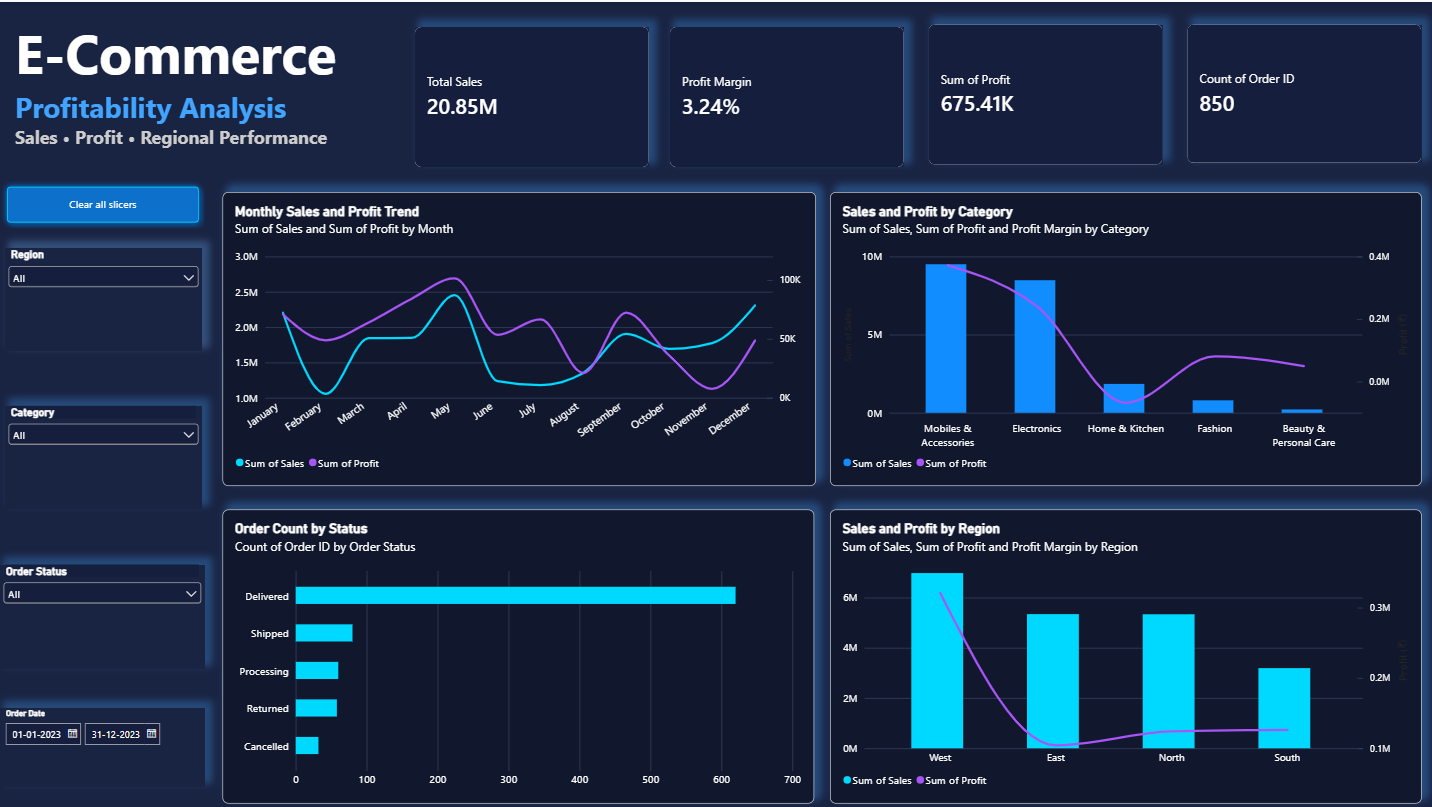

Layout of this report page (visuals, bound fields, positions):
{"tool":"powerbi","page":{"name":"Page 1","canvas":[1920,1080],"ordinal":0},"visuals":[{"type":"cardVisual","fields":{"Data":["ecommerce_sales_cleaned.Total Sales"]},"box":[553.7,32.9,312.9,187.3],"z":0},{"type":"cardVisual","fields":{"Data":["Sum(ecommerce_sales_cleaned.Profit)"]},"box":[1241.2,30.9,312.9,187.3],"z":1000},{"type":"cardVisual","fields":{"Data":["ecommerce_sales_cleaned.Profit Margin"]},"box":[895.4,32.9,312.9,187.3],"z":2000},{"type":"cardVisual","fields":{"Data":["Count(ecommerce_sales_cleaned.Order ID)"]},"box":[1587,30.9,312.9,185.2],"z":3000},{"type":"lineChart","title":"Monthly Sales and Profit Trend","fields":{"Category":["ecommerce_sales_cleaned.Order Date.Variation.Date Hierarchy.Month"],"Y":["Sum(ecommerce_sales_cleaned.Sales)"],"Y2":["Sum(ecommerce_sales_cleaned.Profit)"]},"box":[296.4,253.2,792.5,393.1],"z":4000},{"type":"lineClusteredColumnComboChart","title":"Sales and Profit by Category","fields":{"Category":["ecommerce_sales_cleaned.Category"],"Y":["Sum(ecommerce_sales_cleaned.Sales)"],"Y2":["Sum(ecommerce_sales_cleaned.Profit)"]},"box":[1109.4,253.2,790.4,393.1],"z":5000},{"type":"lineClusteredColumnComboChart","title":"Sales and Profit by Region","fields":{"Category":["ecommerce_sales_cleaned.Region"],"Y":["Sum(ecommerce_sales_cleaned.Sales)"],"Y2":["Sum(ecommerce_sales_cleaned.Profit)"]},"box":[1109.4,677.2,790.4,393.1],"z":6000},{"type":"clusteredBarChart","title":"Order Count by Status","fields":{"Category":["ecommerce_sales_cleaned.Order Status"],"Y":["CountNonNull(ecommerce_sales_cleaned.Order ID)"]},"box":[296.4,677.2,790.4,393.1],"z":7000},{"type":"slicer","fields":{"Values":["ecommerce_sales_cleaned.Region"]},"box":[6.2,329.3,263.5,137.9],"z":8000},{"type":"textbox","box":[20.6,0,485.8,220.2],"z":9000},{"type":"slicer","fields":{"Values":["ecommerce_sales_cleaned.Category"]},"box":[6.2,539.3,263.5,137.9],"z":10000},{"type":"slicer","fields":{"Values":["ecommerce_sales_cleaned.Order Status"]},"box":[0,751.3,273.8,140],"z":11000},{"type":"actionButton","box":[2.1,238.8,271.7,63.8],"z":12000},{"type":"slicer","fields":{"Values":["ecommerce_sales_cleaned.Order Date"]},"box":[0,942.7,273.8,105],"z":13000}]}

Visuals, with their boxes in screenshot pixels (x1, y1, x2, y2), scaled from the page's 1920x1080 canvas onto the 1432x807 screenshot:
cardVisual - ecommerce_sales_cleaned.Total Sales: 413:25:646:165
cardVisual - Sum(ecommerce_sales_cleaned.Profit): 926:23:1159:163
cardVisual - ecommerce_sales_cleaned.Profit Margin: 668:25:901:165
cardVisual - Count(ecommerce_sales_cleaned.Order ID): 1184:23:1417:161
"Monthly Sales and Profit Trend" lineChart: 221:189:812:483
"Sales and Profit by Category" lineClusteredColumnComboChart: 827:189:1417:483
"Sales and Profit by Region" lineClusteredColumnComboChart: 827:506:1417:800
"Order Count by Status" clusteredBarChart: 221:506:811:800
slicer - ecommerce_sales_cleaned.Region: 5:246:201:349
textbox: 15:0:378:165
slicer - ecommerce_sales_cleaned.Category: 5:403:201:506
slicer - ecommerce_sales_cleaned.Order Status: 0:561:204:666
actionButton: 2:178:204:226
slicer - ecommerce_sales_cleaned.Order Date: 0:704:204:783
